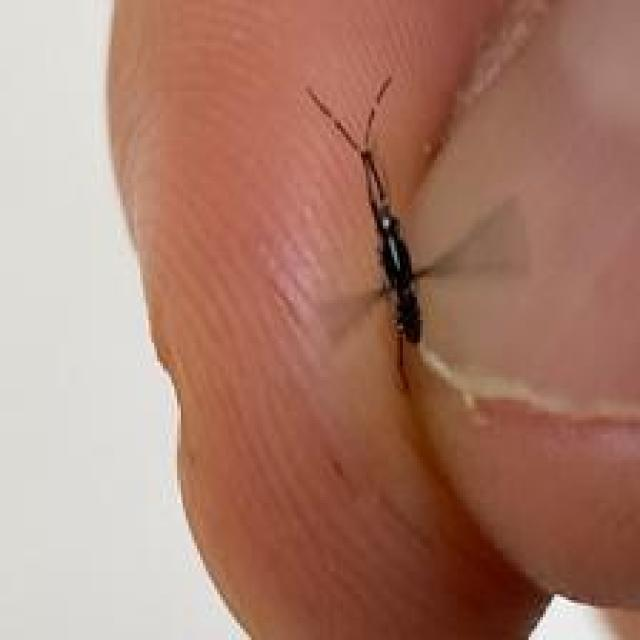Aedes albopictus: (303, 73, 428, 350)
